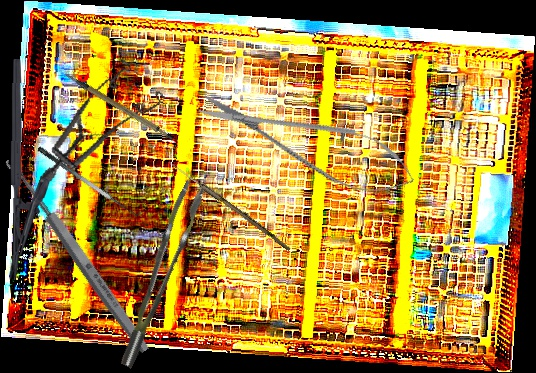Micro Scissor: (191, 76, 424, 209)
Needle Holder: (8, 58, 51, 281)
Scalpel Handle: (62, 55, 177, 155)
Spatula Surgical: (36, 137, 146, 223)
Speculum: (37, 46, 173, 213)
Surgical Spoon: (4, 153, 152, 356), (166, 159, 293, 252)
Tissue Forceps: (96, 178, 223, 369)
